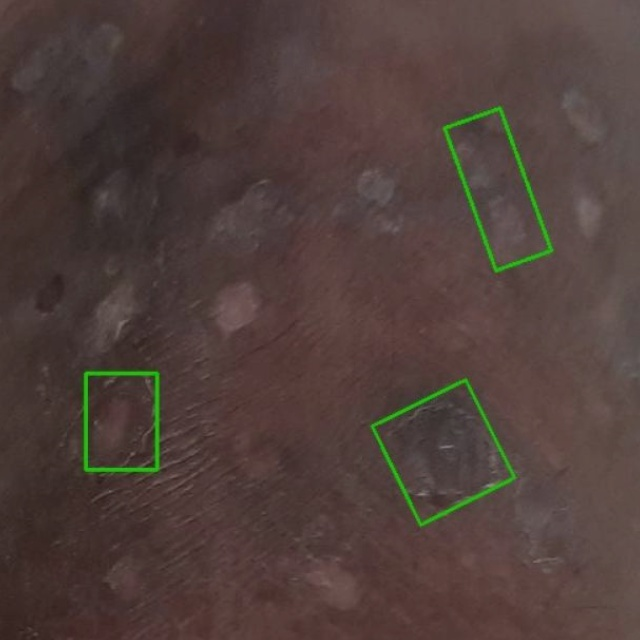Contact Dermatitis: (371, 379, 514, 524), (444, 108, 550, 270), (86, 373, 157, 469)
